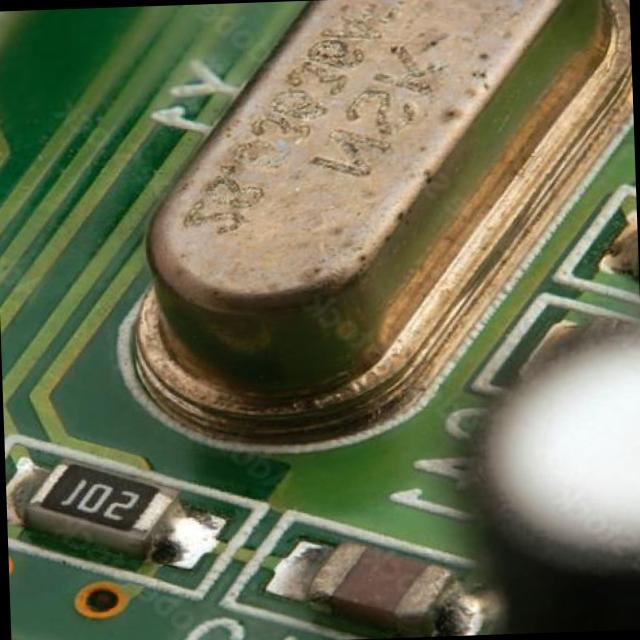capacitor: (276, 544, 480, 634)
resistor: (29, 462, 184, 553)
